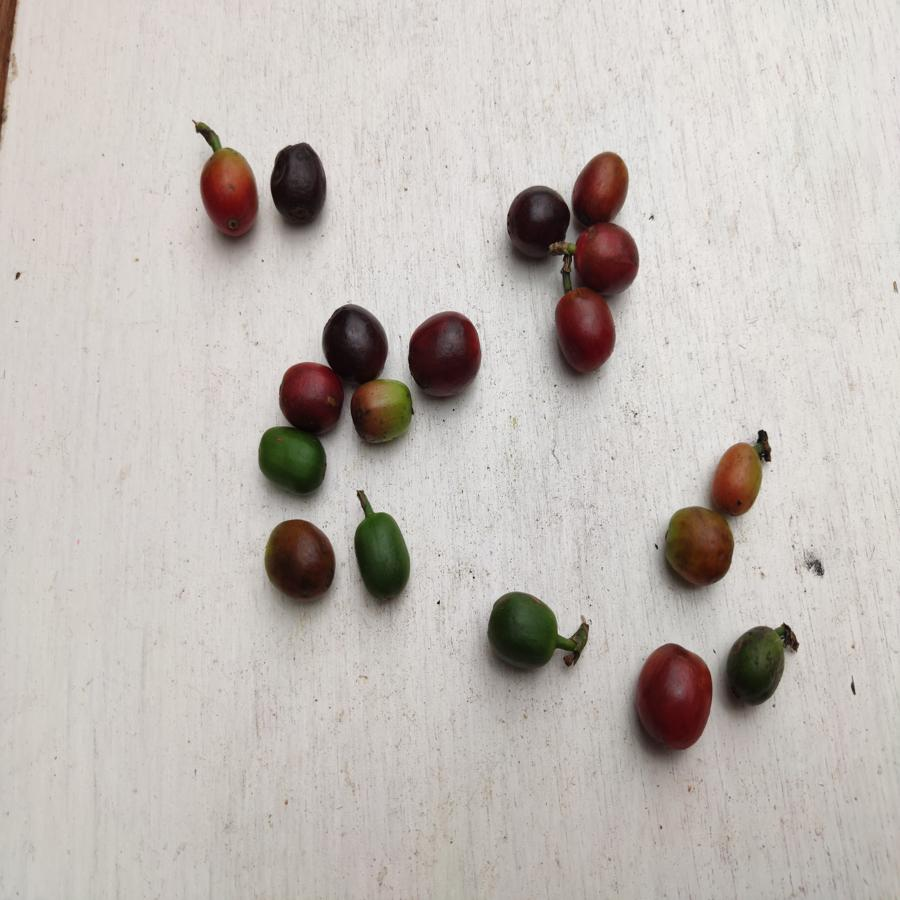Inmaduro: (351, 511, 421, 603), (484, 594, 559, 671), (725, 623, 788, 708), (256, 429, 328, 498)
Maduro: (201, 148, 262, 246), (556, 287, 618, 375), (572, 223, 643, 291), (575, 149, 630, 228)
Pinton: (263, 513, 336, 608), (665, 507, 736, 592), (349, 382, 418, 452), (711, 444, 763, 518)
Sobremaduro: (635, 635, 715, 755), (411, 308, 483, 402), (270, 136, 329, 224), (323, 304, 387, 382), (280, 362, 343, 438), (506, 188, 568, 258)
